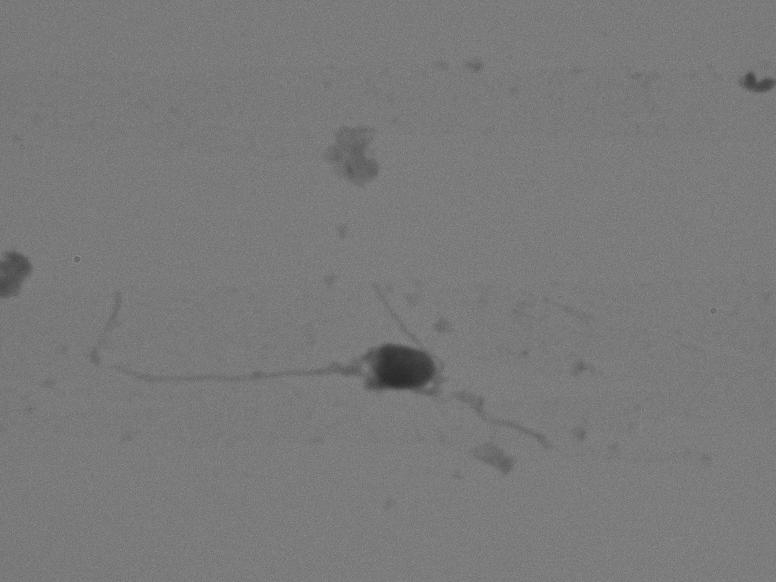Abnormal: (75, 261, 449, 440)
